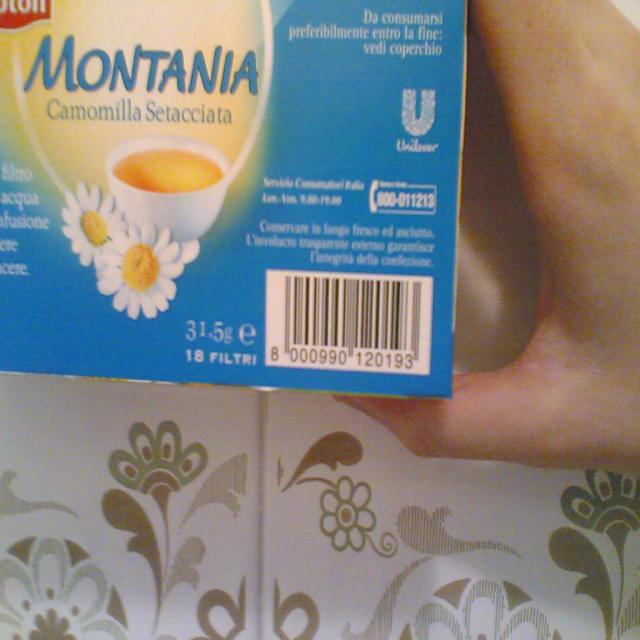barcode: (265, 270, 434, 375)
